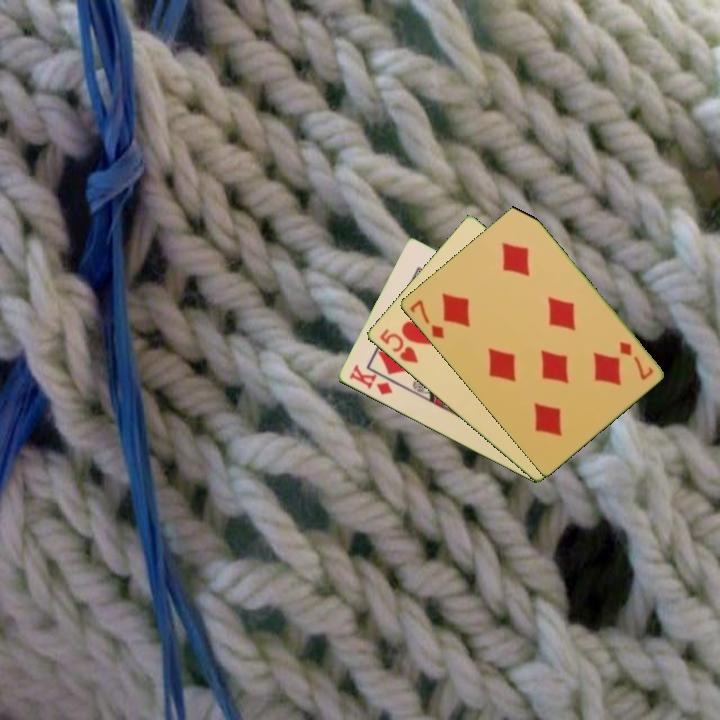5h: (376, 325, 420, 366)
7d: (406, 296, 447, 342), (615, 338, 656, 383)
Kd: (345, 361, 395, 398)
